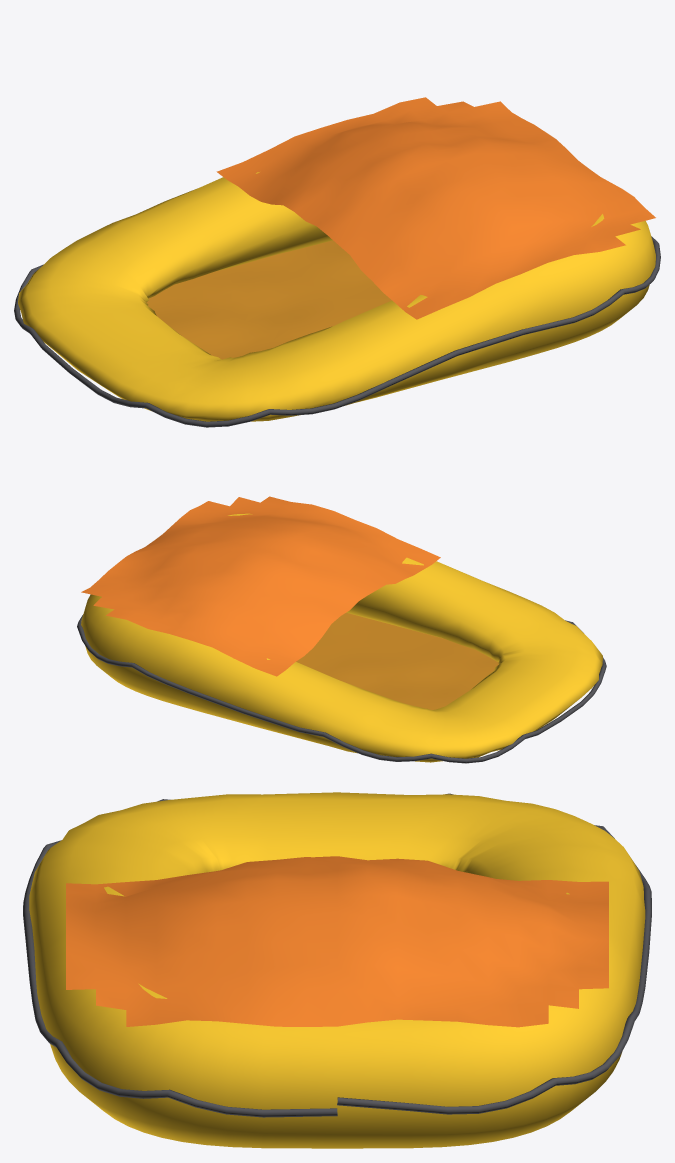
Rendered from raft.glb.
3 views of the same model, one above another, from view 1: azimuth 30°, elevation 25°; view 2: azimuth 150°, elevation 25°; view 3: azimuth 270°, elevation 25° (orthographic). The views are drawn at different scales.
Parts seen in each view (by area): view 1: Raft; view 2: Raft; view 3: Raft.
Part boxes in pixels (left/top/right/bottom): Raft: left=14, top=97, right=660, bottom=427; Raft: left=77, top=496, right=606, bottom=763; Raft: left=23, top=792, right=651, bottom=1148.
Size of the model in its own units: 5 by 1.25 by 3.75.
